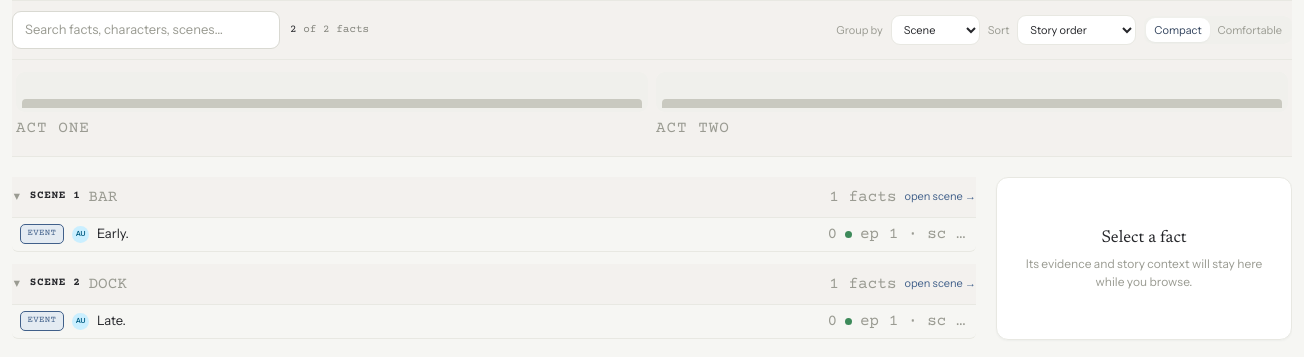
Scenario: StoryAtlas › orders, groups, numbers and strips scenes in story order, not array order
Check: the button with test id "atlas-group-header-scene-scene-late" shows "Scene 2", box [12,272,896,296]
Check: the text with test id "atlas-ref-f-late" shows "sc 2", box [860,312,1052,330]
Step 1. Click the button with test id "atlas-scene-tick-1" → [332, 103], box [22,99,642,108]
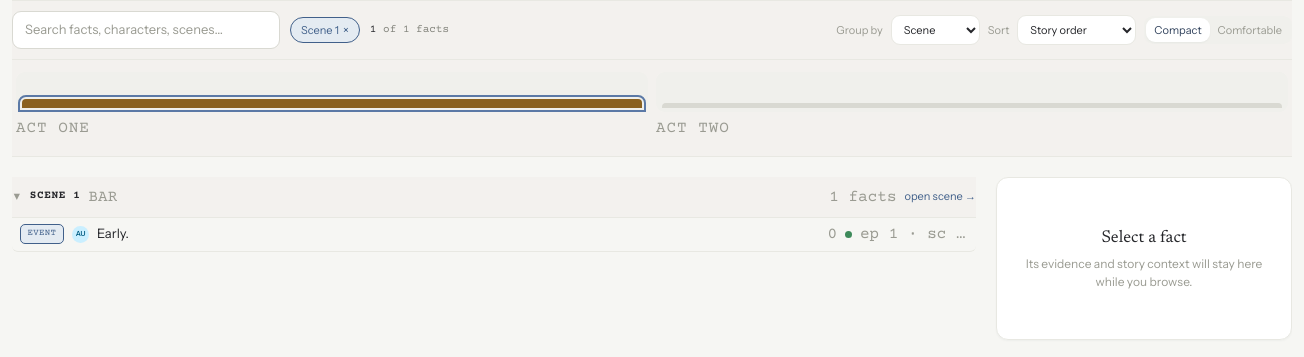
Check: the button with test id "atlas-row-f-early" is shown, box [12,218,976,252]
Check: the button with test id "atlas-filter-chip-scene" shows "Scene 1", box [290,16,360,43]
Check: the button with test id "atlas-row-f-late" is gone
